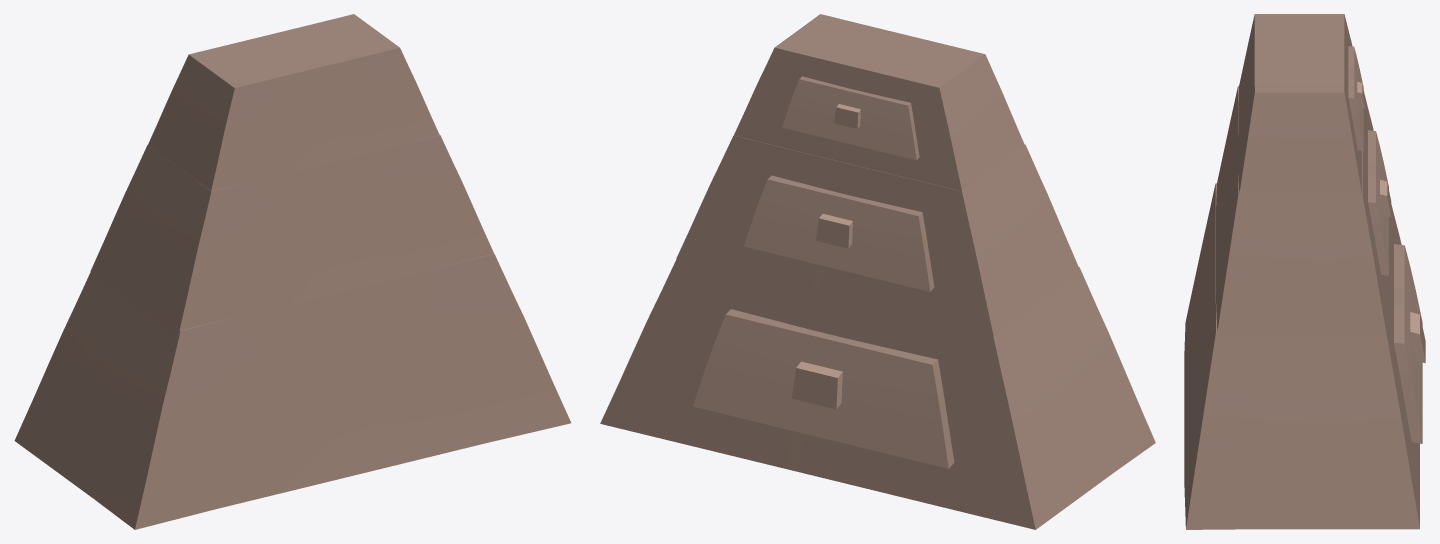
The model's file is chestofdrawers.fbx.
3 views of the same model, side by side, from view 1: azimuth 30°, elevation 25°; view 2: azimuth 150°, elevation 25°; view 3: azimuth 270°, elevation 25° (orthographic). The views are drawn at different scales.
Visible parts, largest first — view 1: pCube44, pCube43, pCube45; view 2: pCube44, pCube43, pCube45; view 3: pCube44, pCube43, pCube45.
Part boxes in pixels (x1=…): pCube44: x1=14, y1=253, x2=571, y2=529; pCube43: x1=90, y1=135, x2=493, y2=336; pCube45: x1=148, y1=14, x2=439, y2=190; pCube44: x1=600, y1=259, x2=1155, y2=529; pCube43: x1=676, y1=135, x2=1080, y2=336; pCube45: x1=734, y1=14, x2=1024, y2=191; pCube44: x1=1184, y1=183, x2=1425, y2=529; pCube43: x1=1216, y1=86, x2=1391, y2=338; pCube45: x1=1238, y1=14, x2=1365, y2=194.
Bounding box in the file's own units: 1.38 × 1.16 × 0.6777.
